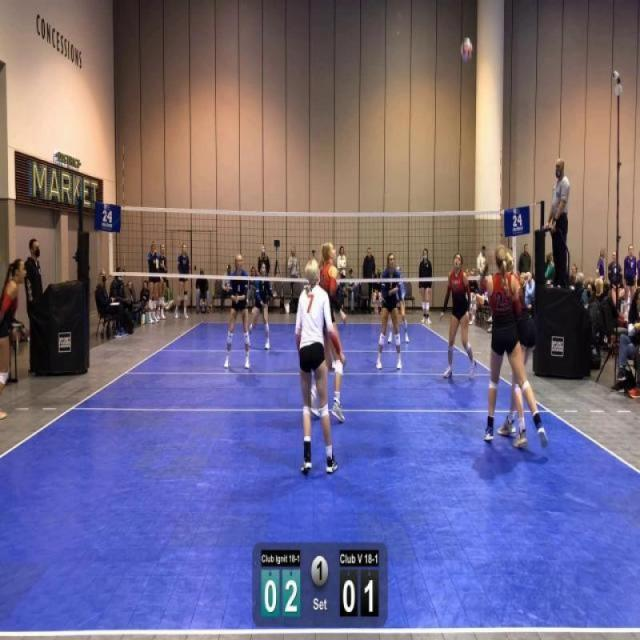volleyball: (460, 36, 474, 63)
